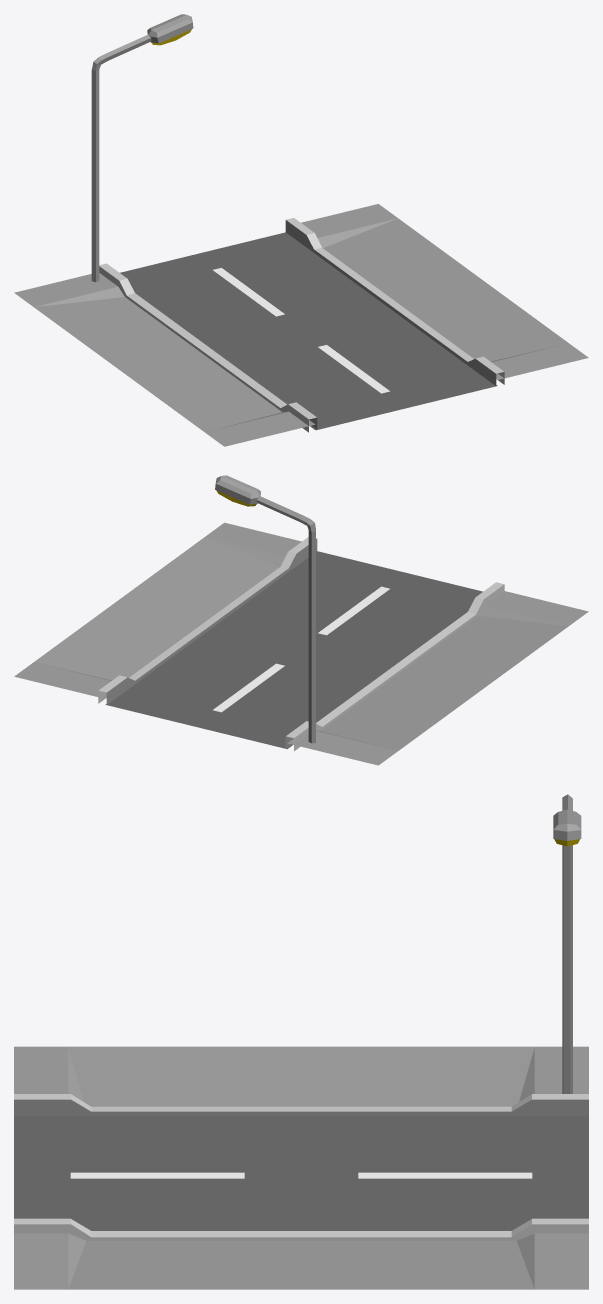
Rendered from Road_Tile_2.fbx.
3 renders of one model, top to bottom at view 1: azimuth 30°, elevation 25°; view 2: azimuth 150°, elevation 25°; view 3: azimuth 270°, elevation 25°, orthographic. The views are drawn at different scales.
Visible parts, largest first — view 1: Road_2, Light_2; view 2: Road_2, Light_2; view 3: Road_2, Light_2.
Part boxes in pixels (x1,y1,x2,y2): Road_2: (14, 204, 588, 446); Light_2: (91, 14, 193, 282); Road_2: (14, 522, 588, 765); Light_2: (215, 475, 315, 743); Road_2: (14, 1046, 588, 1289); Light_2: (553, 794, 581, 1093).
Size of the model in its own units: 4 by 2.62 by 4.
